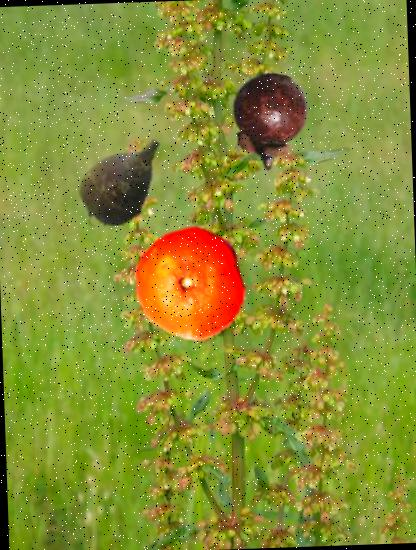Beetroot: (63, 124, 178, 240)
Clementine: (132, 223, 254, 345)
Mangostan: (218, 72, 319, 172)
